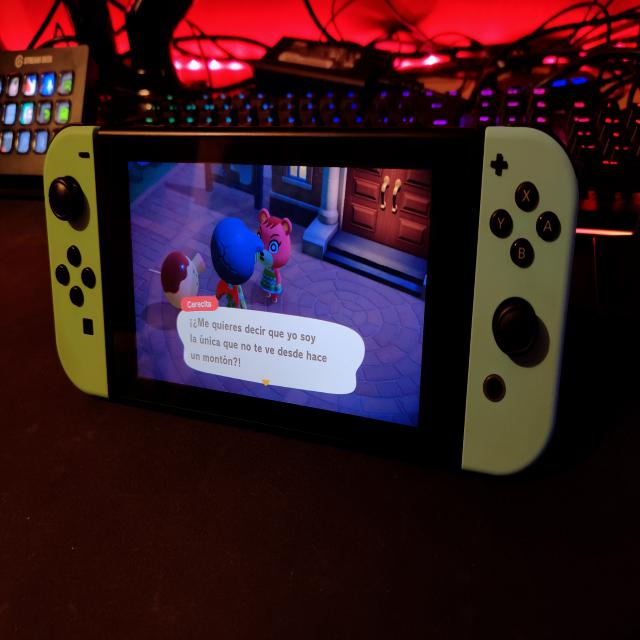text_bubble: (177, 293, 369, 399)
